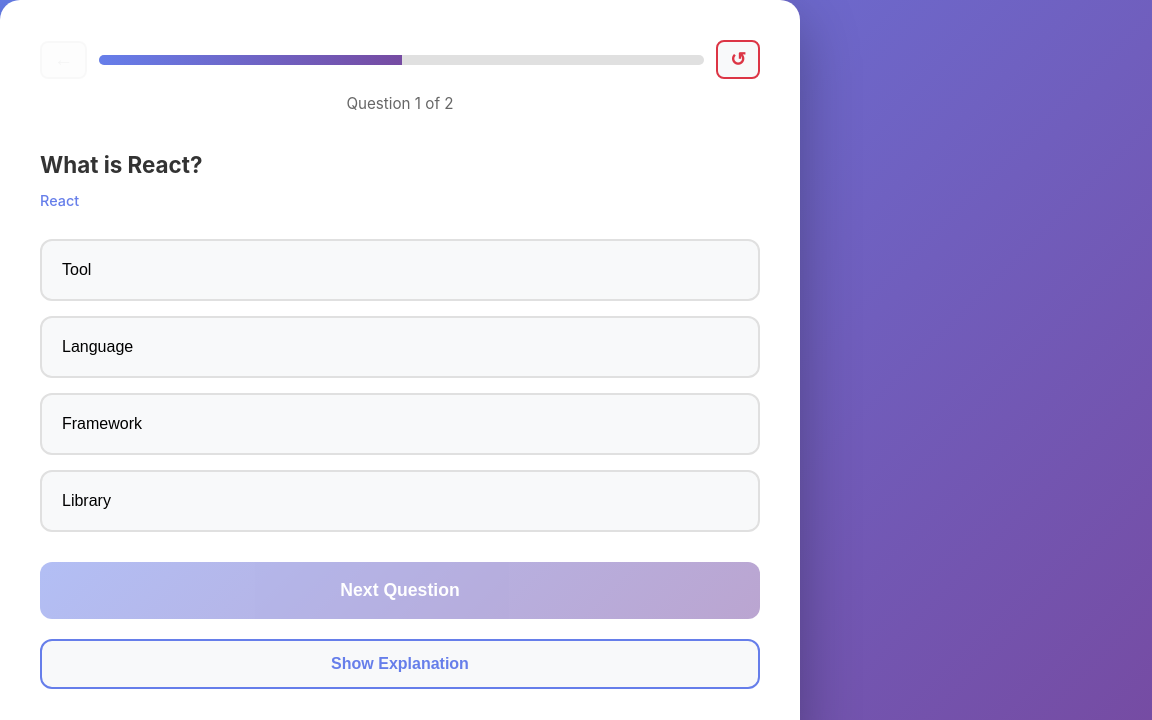
QuizScreen - Show Explanation Feature › should hide explanation when button is clicked again
What coordinates should you click on to do the following:
click the button "Tool"
I would click on:
 (77, 269)
Its box is left=40, top=239, right=760, bottom=301.
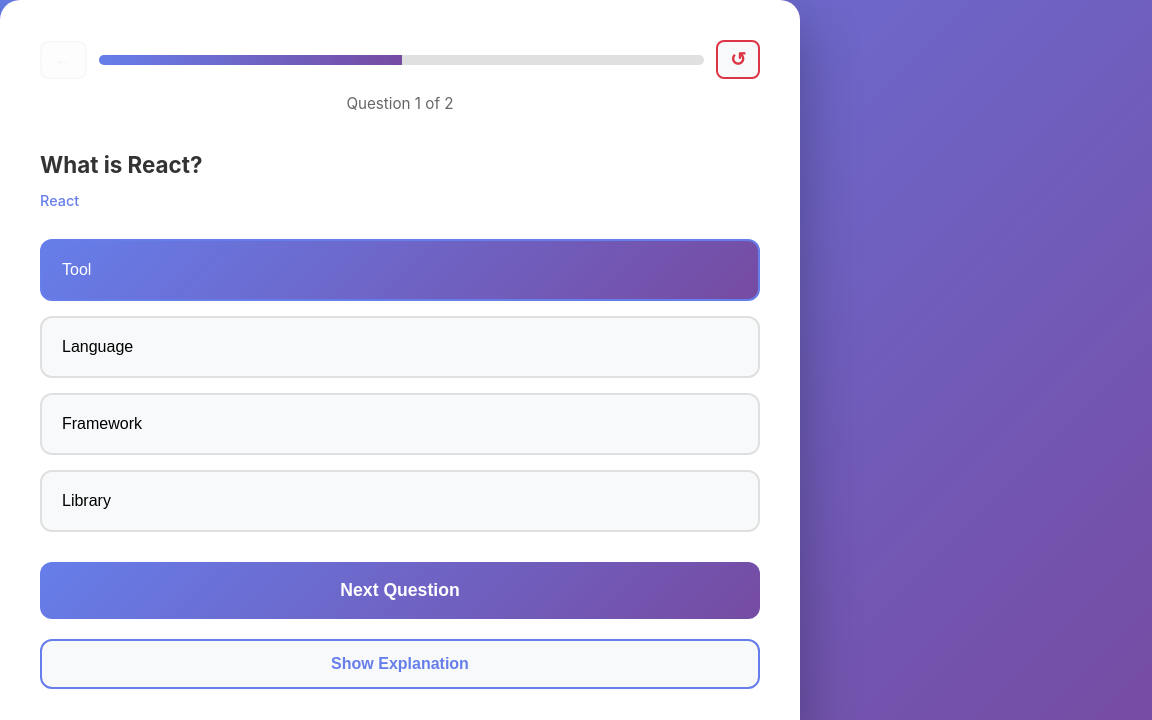
Note: Show explanation
What coordinates should you click on to do the following:
click the button "Show Explanation"
I would click on:
 (400, 664)
Its box is left=40, top=639, right=760, bottom=689.
(page scrolled)
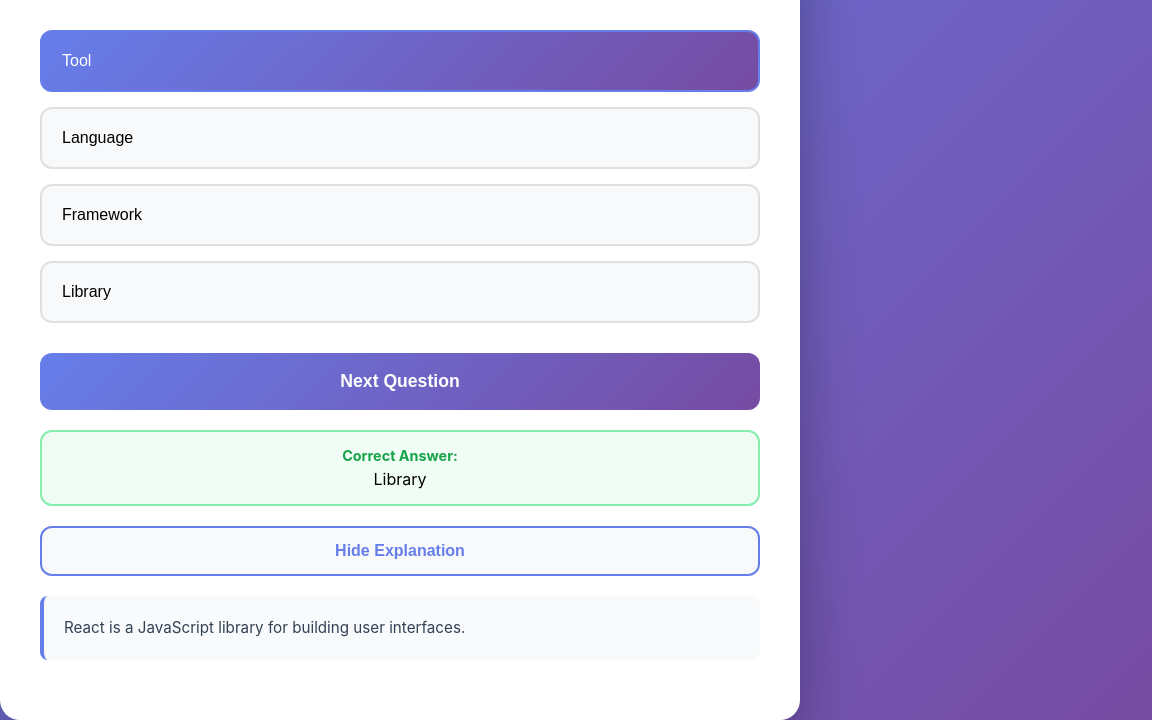
Result: the text "React is a JavaScript library for building user interfaces." is shown at left=64, top=618, right=465, bottom=637
Note: Hide explanation
What coordinates should you click on to do the following:
click the button "Hide Explanation"
I would click on:
 (400, 551)
Its box is left=40, top=526, right=760, bottom=576.
(page scrolled)
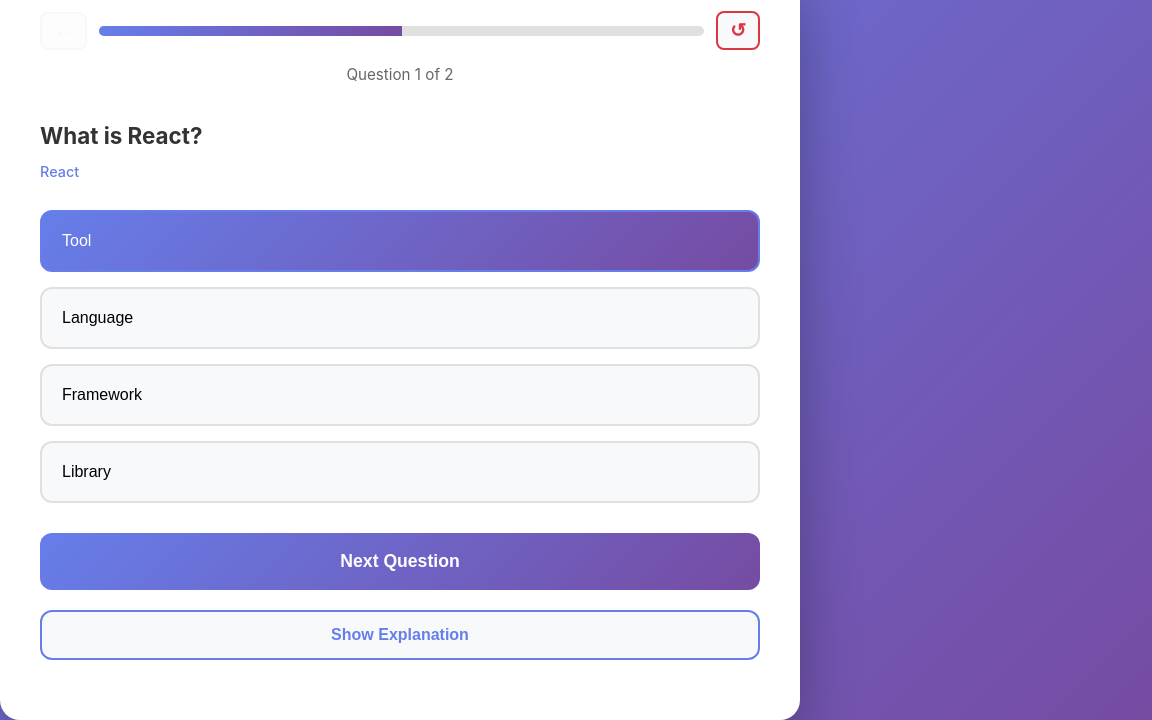
Result: the text "React is a JavaScript library for building user interfaces" is gone
